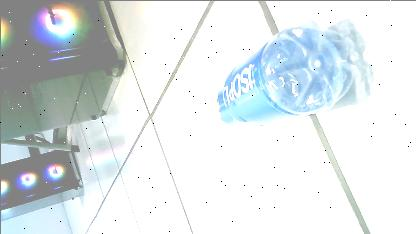Plastic Bottle: (194, 20, 348, 144)
